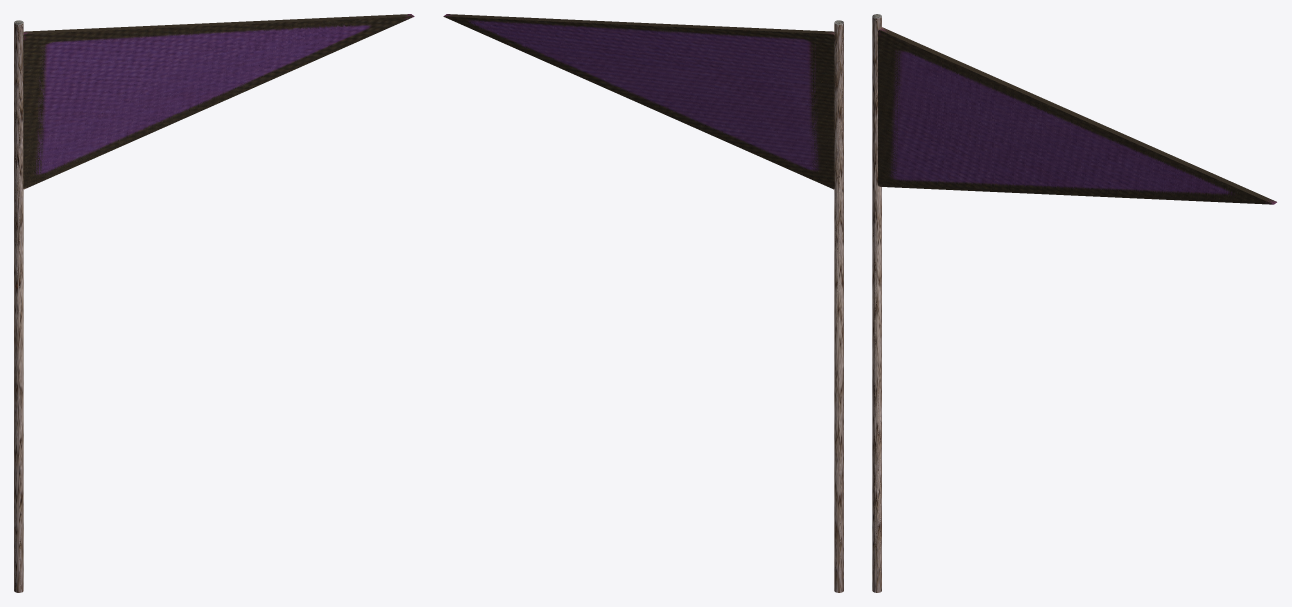
The model's file is Drapeau.fbx.
The picture shows the model from 3 angles, left to right: view 1: azimuth 30°, elevation 25°; view 2: azimuth 150°, elevation 25°; view 3: azimuth 330°, elevation 25°; orthographic projection.
Parts seen in each view (by area): view 1: pCube2, pCube3, pCylinder2; view 2: pCube2, pCube3, pCylinder2; view 3: pCube3, pCube2, pCylinder2.
Part boxes in pixels (box(x1,y1,x2,y2)): pCube2: box(23, 14, 414, 189); pCube3: box(14, 18, 408, 570); pCylinder2: box(14, 23, 23, 592); pCube2: box(443, 14, 834, 189); pCube3: box(450, 18, 843, 573); pCylinder2: box(834, 23, 843, 592); pCube3: box(872, 14, 1267, 559); pCube2: box(878, 27, 1276, 204); pCylinder2: box(872, 16, 881, 592).
Bounding box in the file's own units: 97.1 × 132 × 2.
